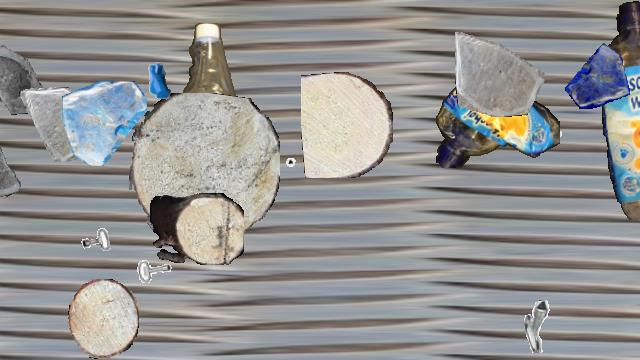glass: (455, 27, 545, 117), (62, 81, 146, 165), (18, 87, 92, 161), (564, 42, 630, 108), (0, 32, 44, 114), (0, 144, 29, 206)
metal: (67, 195, 127, 255), (130, 51, 186, 107), (524, 299, 578, 353), (134, 255, 180, 301), (526, 100, 566, 140), (282, 156, 322, 196), (625, 98, 640, 158)
plastic: (162, 23, 244, 221), (434, 77, 560, 167), (602, 1, 640, 219)
wood: (129, 93, 279, 245), (301, 72, 393, 178), (150, 193, 244, 265), (68, 279, 138, 359)
